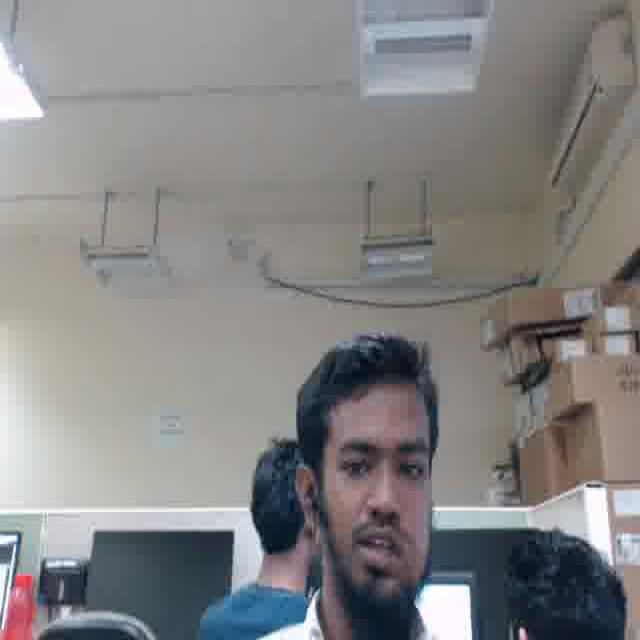Engaged: (321, 391, 437, 597)
